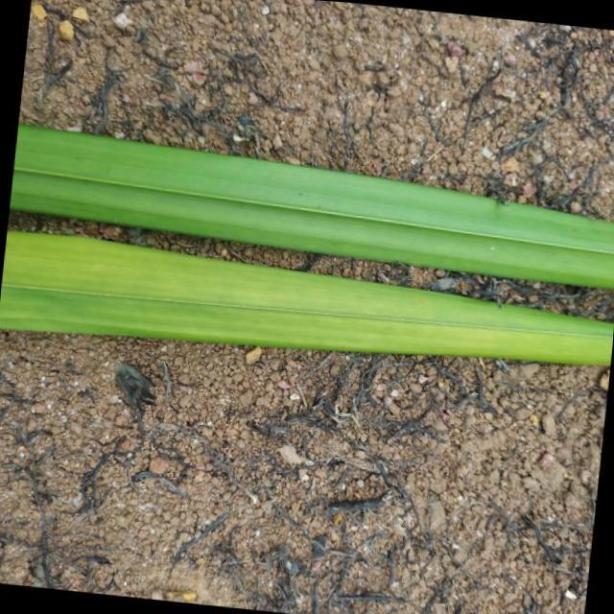nitrogen: (5, 112, 614, 286), (7, 224, 614, 365)
